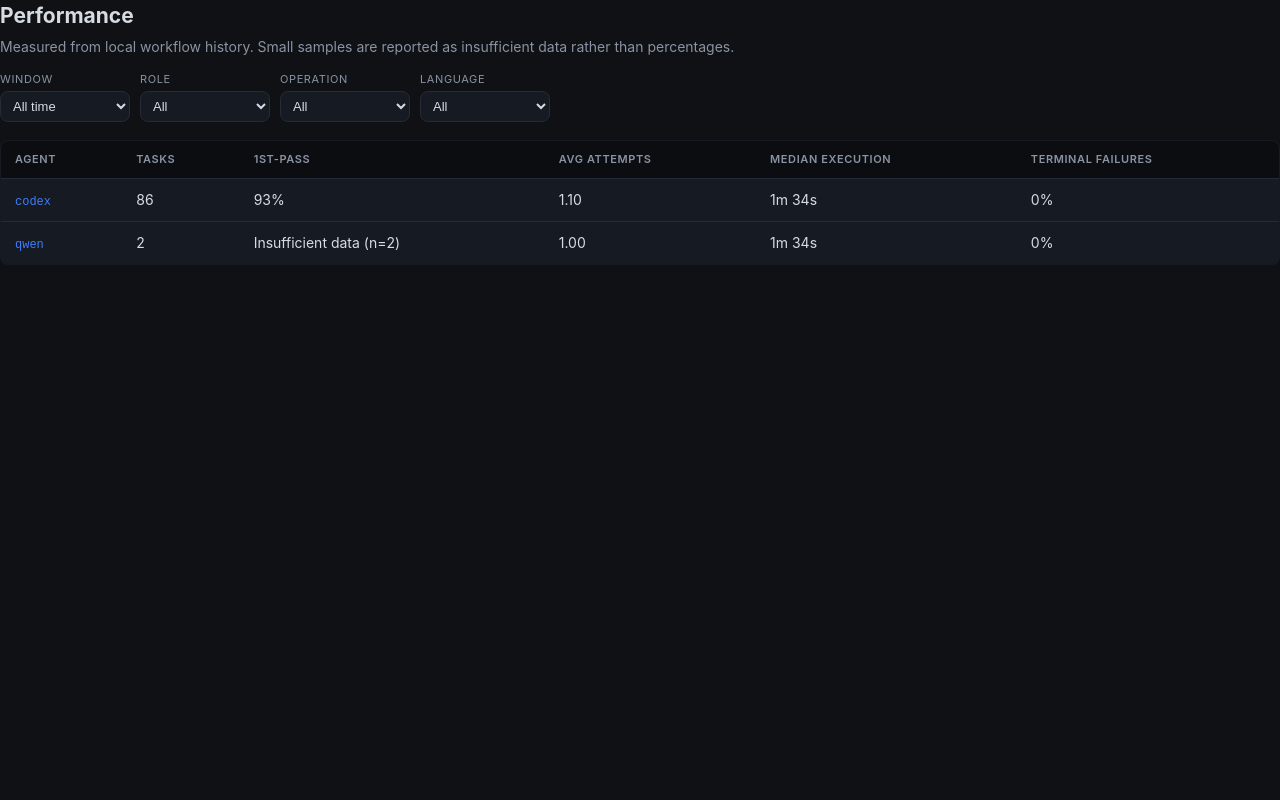
PerformanceView › opens an agent detail with breakdowns, trend and reasons
This screenshot has width=1280, height=800.
Click the text "codex".
click(33, 202)  # box [15,194,51,208]
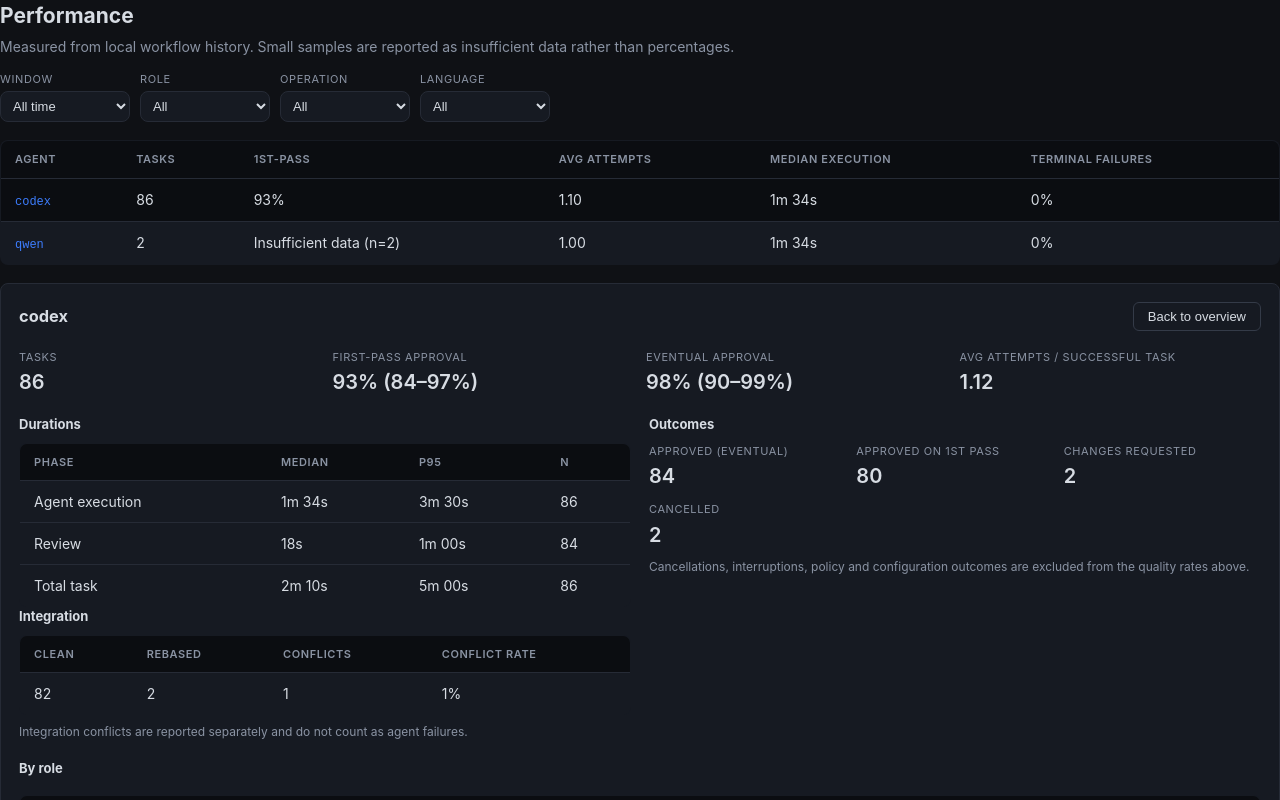
Now the button "Back to overview" is shown, box [1133,302,1261,330]
Now the heading "By role" is shown, box [19,760,63,776]
Now the text "93% (84–97%)" is shown, box [332,370,478,394]
